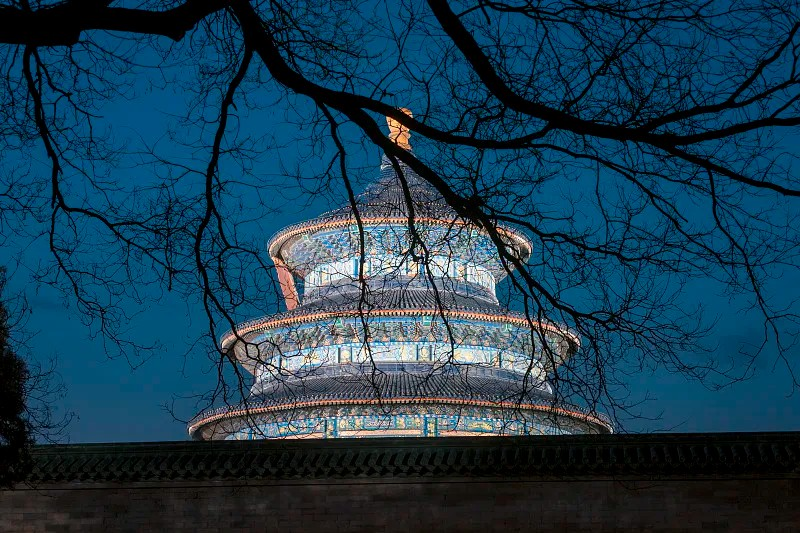Heaven: (185, 107, 617, 444)
